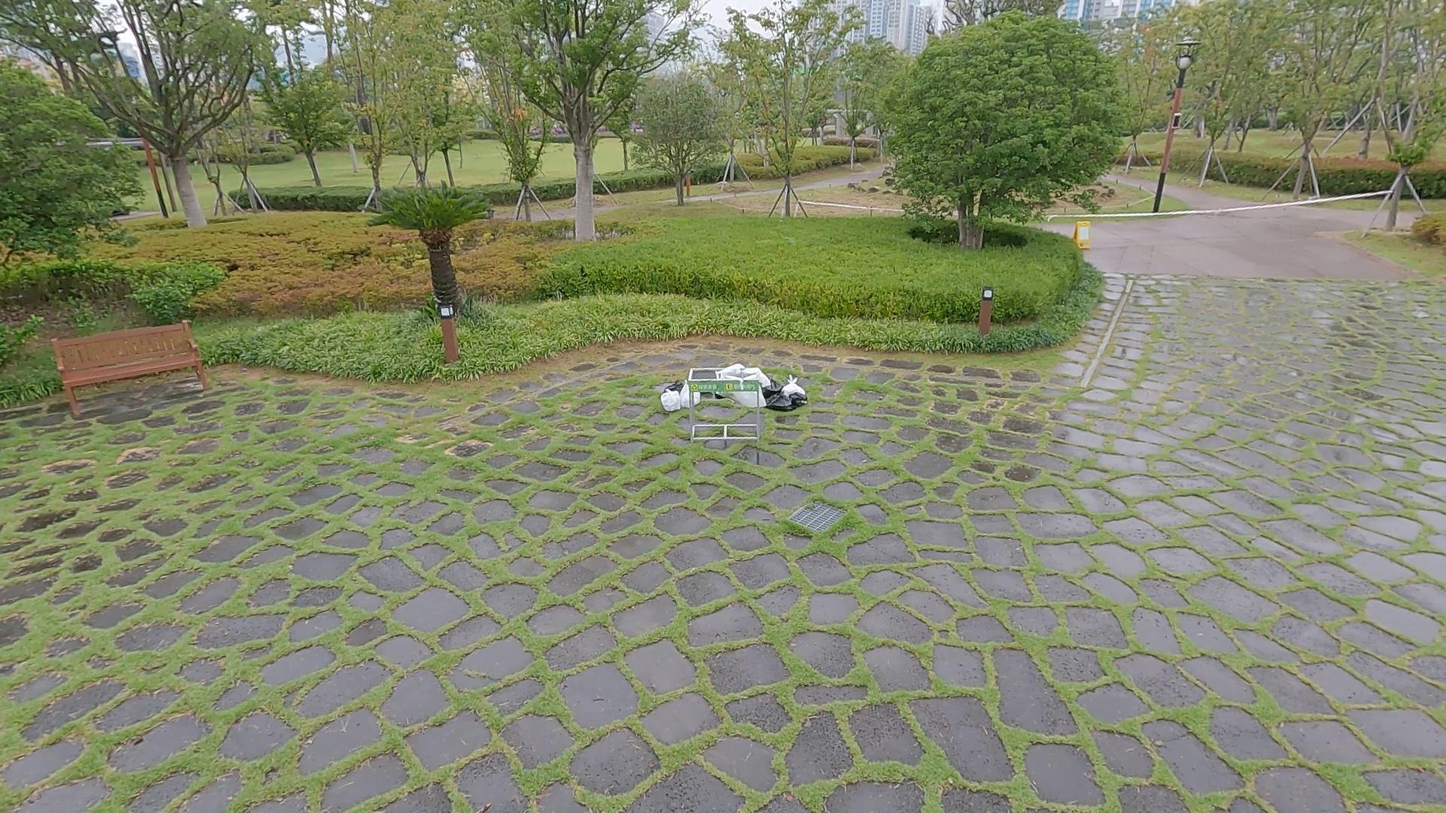trash: (764, 390, 796, 412), (783, 373, 806, 402), (662, 379, 684, 408), (681, 379, 701, 409), (762, 379, 783, 403), (661, 388, 681, 412), (788, 391, 808, 410)
